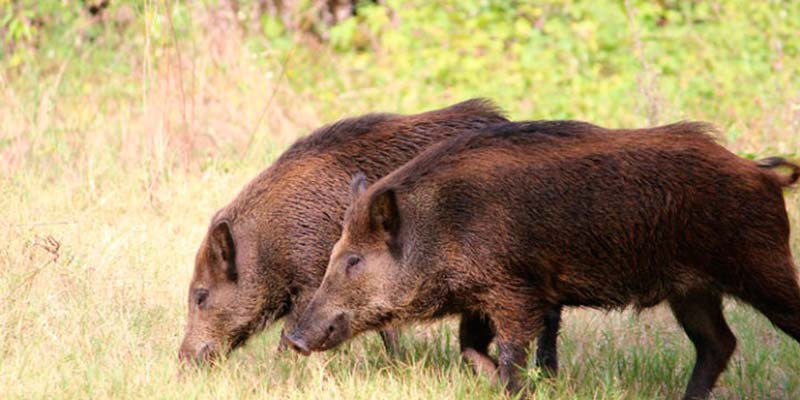boar: (277, 117, 800, 397), (165, 95, 506, 374)
